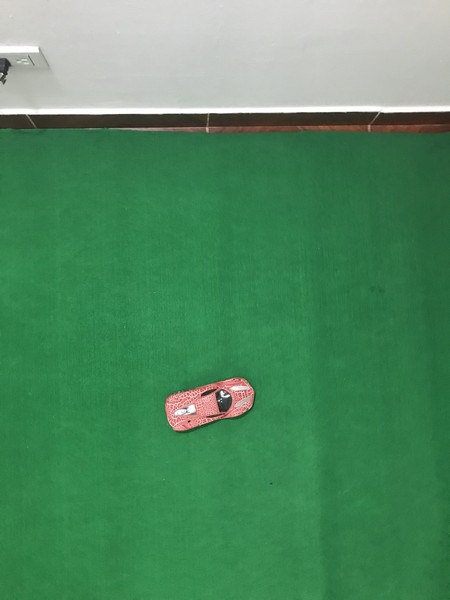RC: (163, 375, 259, 433)
